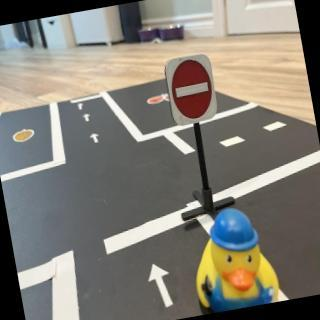duck_specialty: (185, 203, 289, 316)
road_oneway: (147, 259, 180, 315), (89, 130, 104, 149), (83, 111, 94, 126), (77, 103, 87, 114)
sign_noentry: (164, 55, 220, 126)
